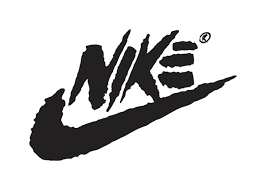nike: (19, 68, 244, 168)
